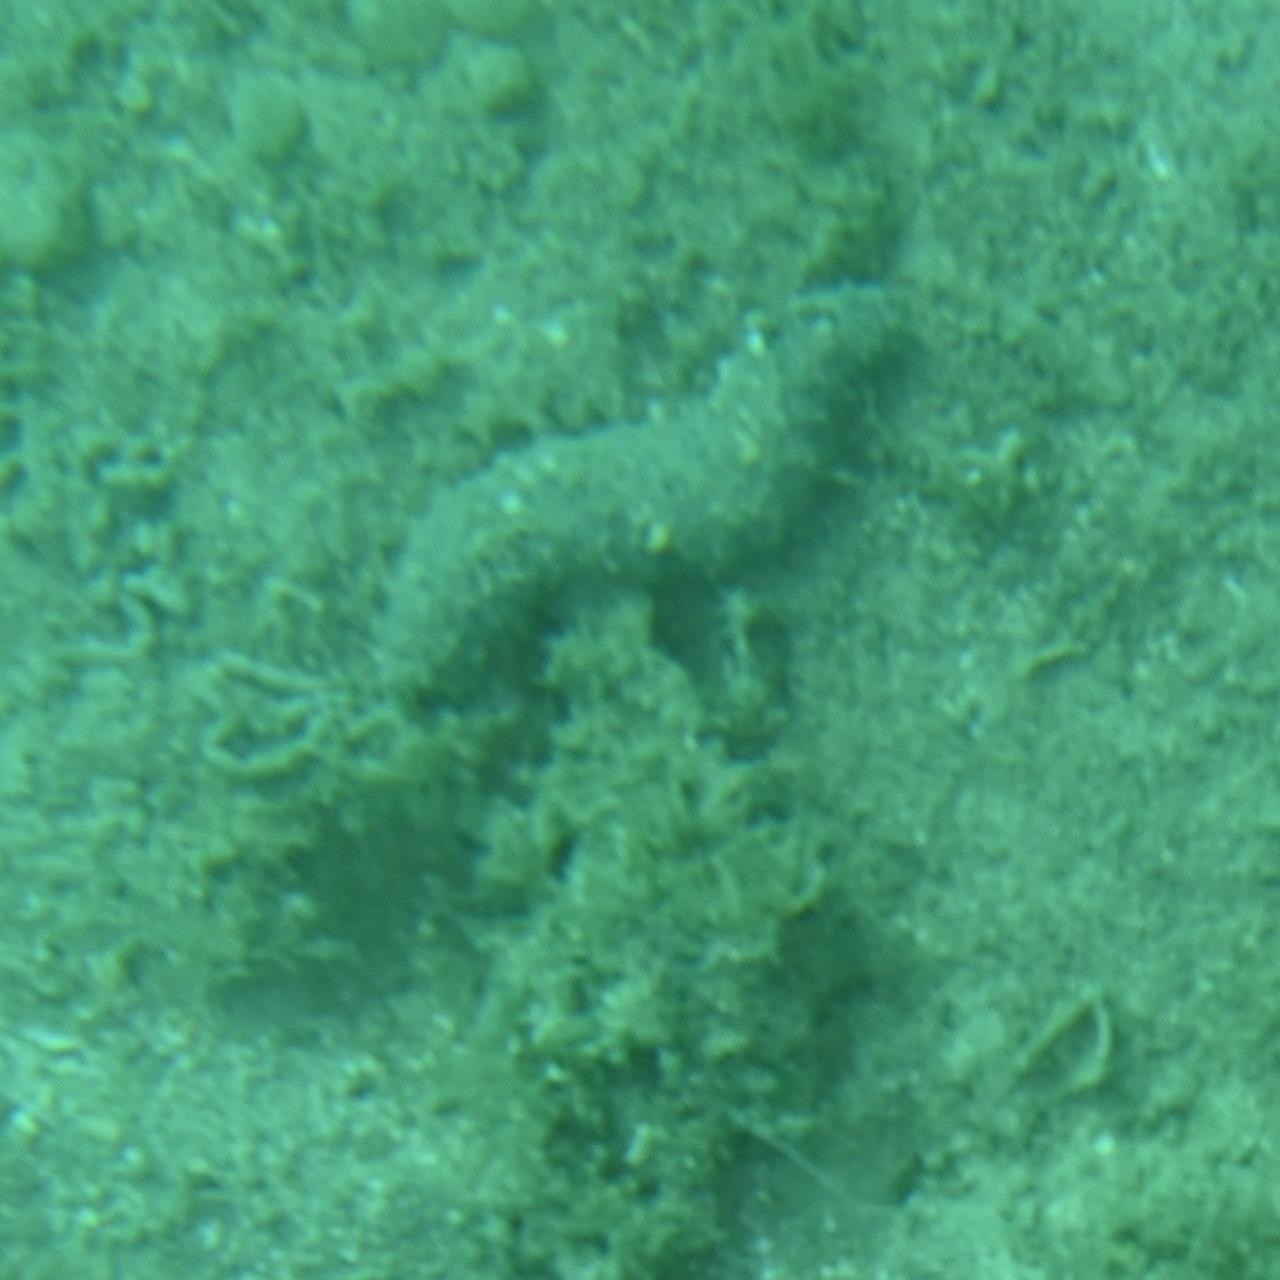Holothuria tubulosa: (364, 259, 916, 695)
